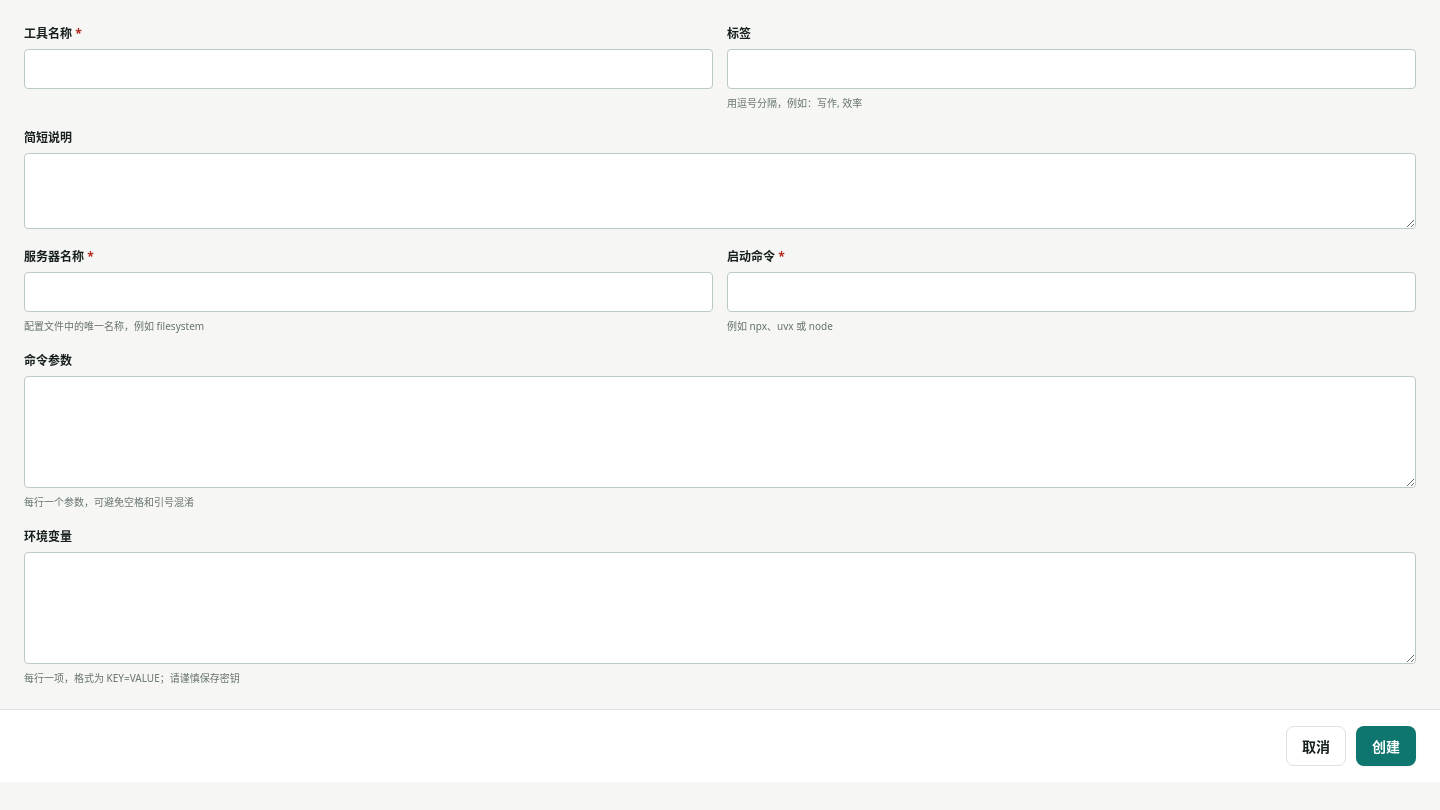
Scenario: EntityEditor › rejects an invalid environment variable line
Type "测试工具" into the field labelled "工具名称 *".
click(368, 69); type("测试工具")  # box [24, 49, 713, 89]
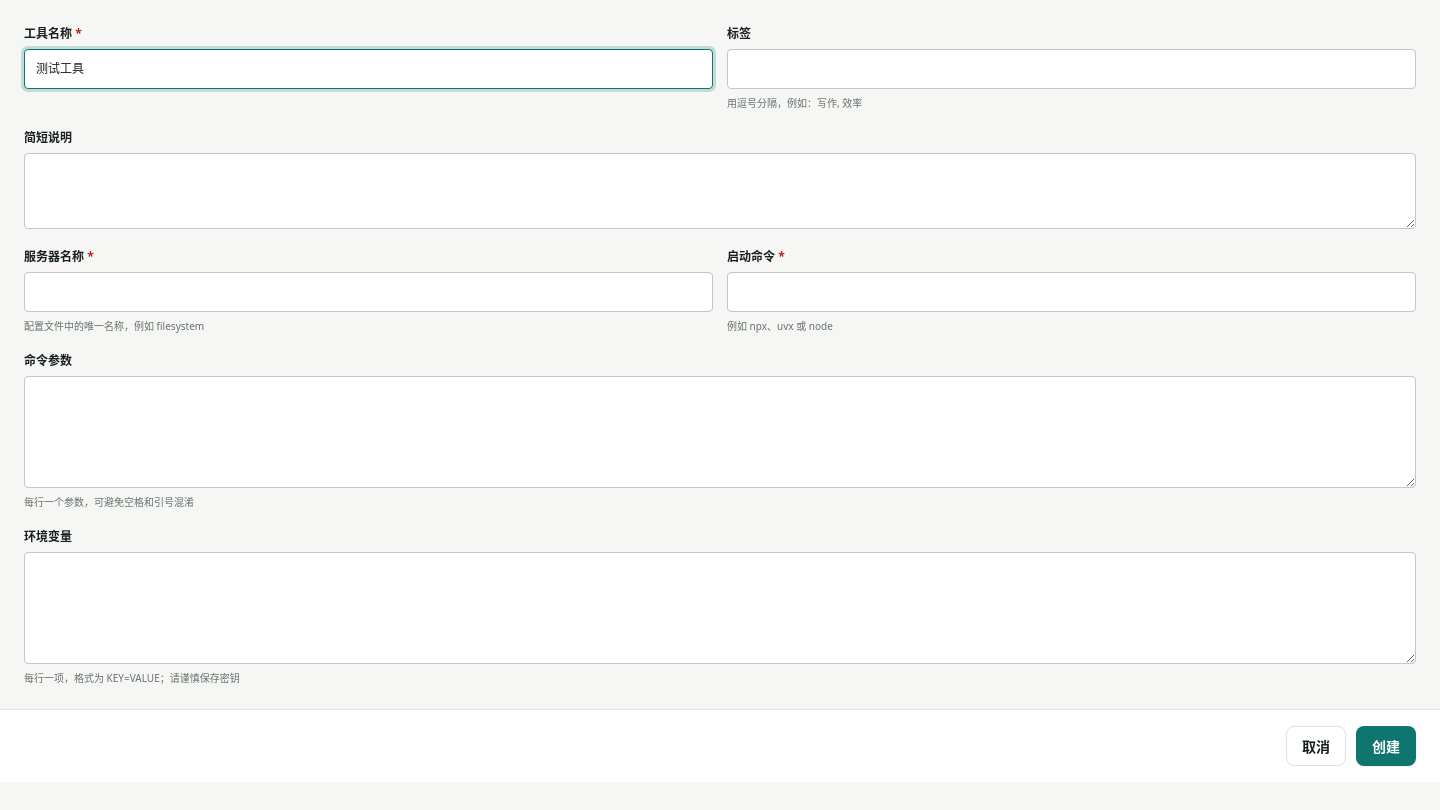
Type "test" into the field labelled "服务器名称 * 配置文件中的唯一名称，例如 filesystem".
click(368, 292); type("test")  # box [24, 272, 713, 312]
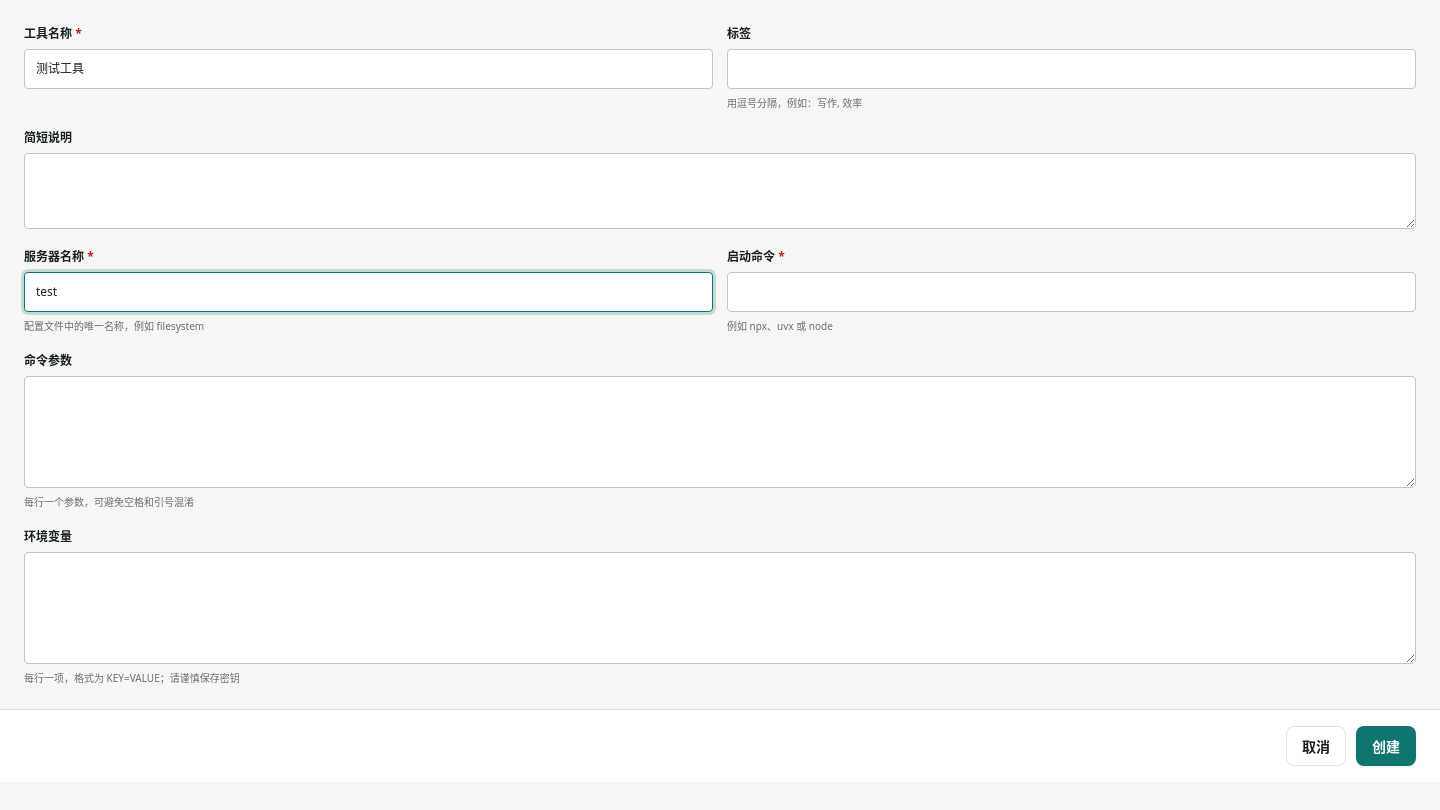
Type "node" into the field labelled "启动命令 * 例如 npx、uvx 或 node".
click(1072, 292); type("node")  # box [727, 272, 1416, 312]
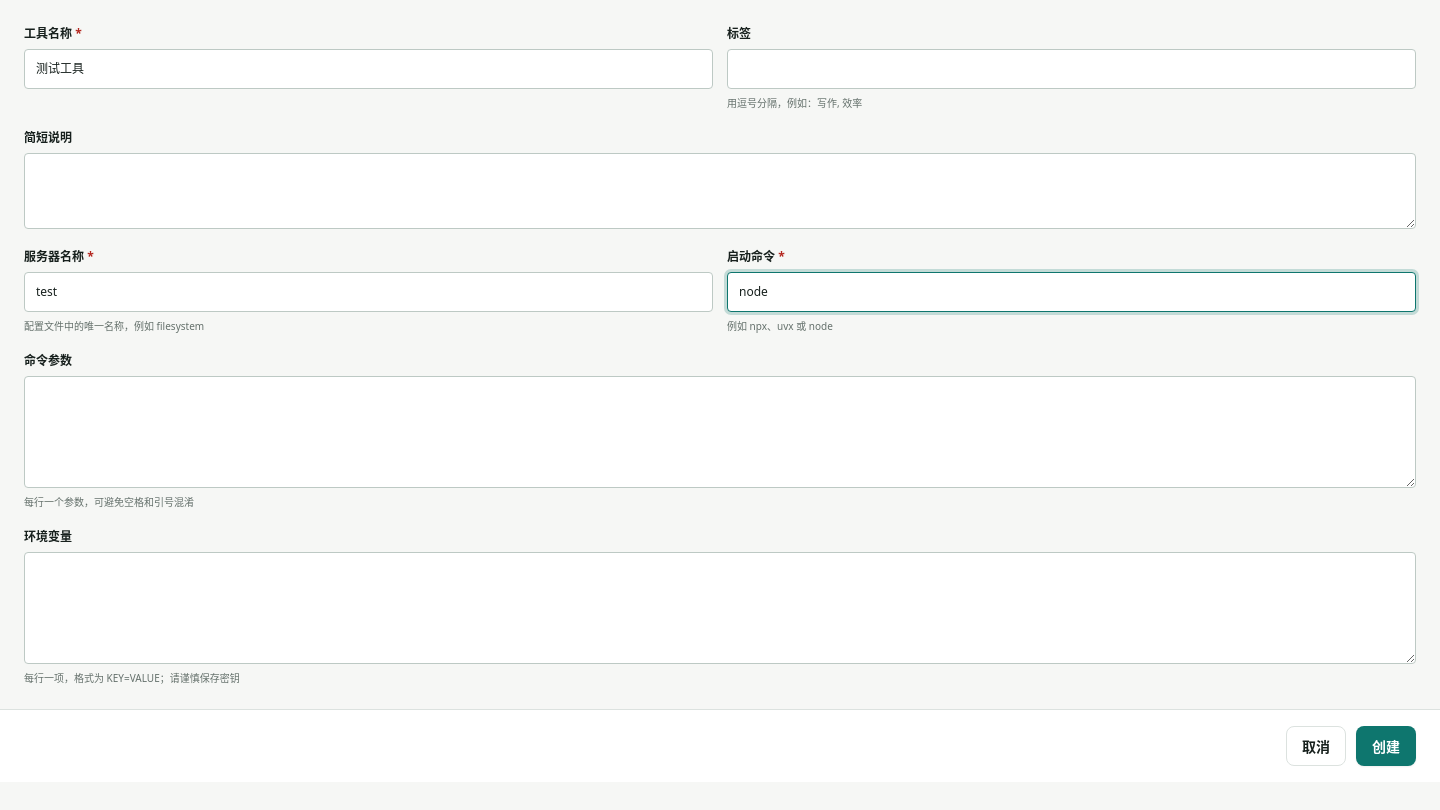
Type "没有等号" into the text box labelled "环境变量 每行一项，格式为 KEY=VALUE；请谨慎保存密钥".
click(720, 608); type("没有等号")  # box [24, 552, 1416, 664]
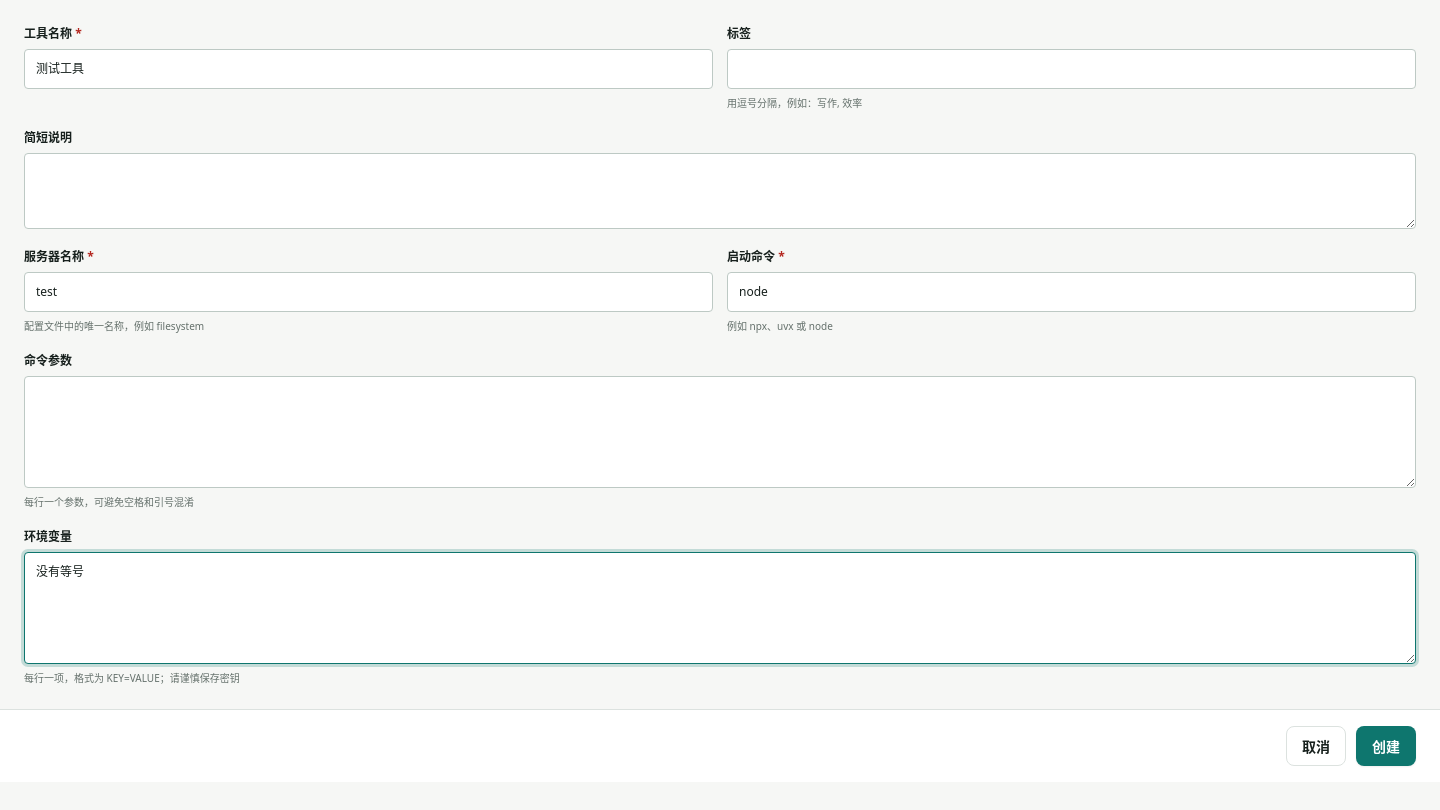
Click the button "创建".
click(1386, 746)  # box [1356, 726, 1416, 766]
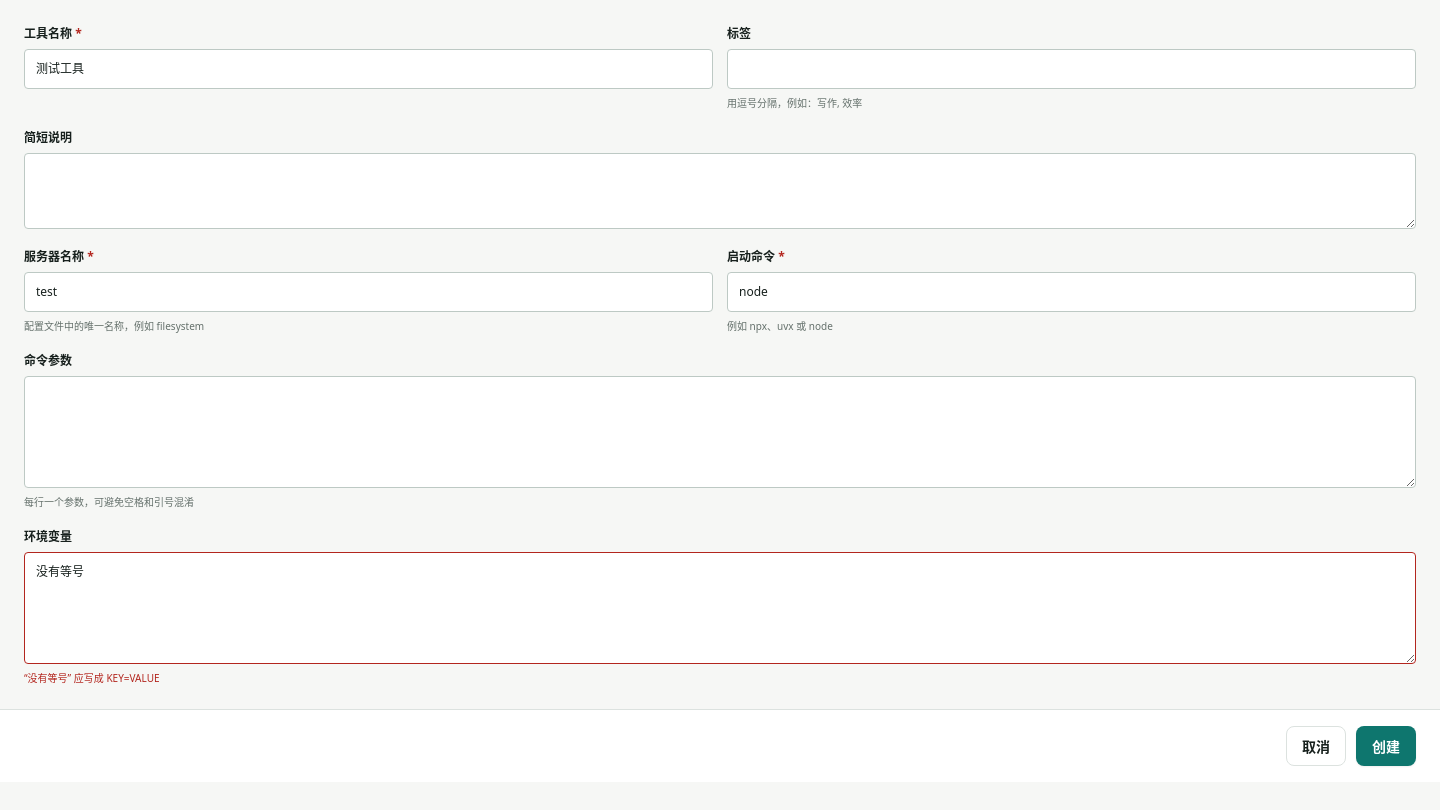
Expected: the text "“没有等号” 应写成 KEY=VALUE" is shown, [24, 671, 160, 685]
